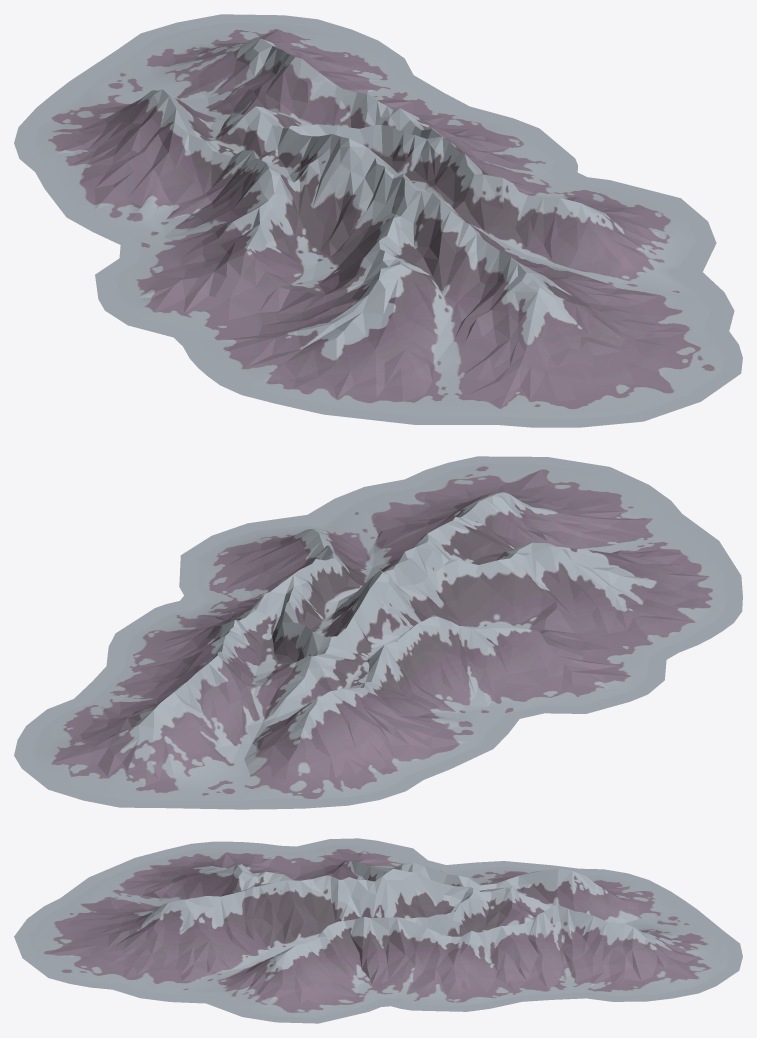
The model's file is build_mountain_J.FBX.
The picture shows the model from 3 angles, top to bottom: view 1: azimuth 30°, elevation 25°; view 2: azimuth 150°, elevation 25°; view 3: azimuth 270°, elevation 25°; orthographic projection. The views are drawn at different scales.
Parts seen in each view (by area): view 1: mountain_snow_LOD0_0, mountain_snow_edge_LOD0_0; view 2: mountain_snow_LOD0_0, mountain_snow_edge_LOD0_0; view 3: mountain_snow_LOD0_0, mountain_snow_edge_LOD0_0.
Part boxes in pixels (x1,y1,x2,y2): mountain_snow_LOD0_0: [34, 22, 723, 418]; mountain_snow_edge_LOD0_0: [14, 14, 742, 427]; mountain_snow_LOD0_0: [32, 463, 724, 800]; mountain_snow_edge_LOD0_0: [14, 456, 742, 809]; mountain_snow_LOD0_0: [28, 844, 728, 1017]; mountain_snow_edge_LOD0_0: [14, 838, 742, 1023].
Size of the model in its own units: 66.55 by 10.21 by 111.
